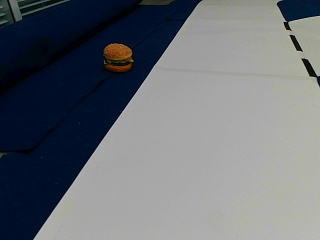burger: (103, 41, 133, 71)
